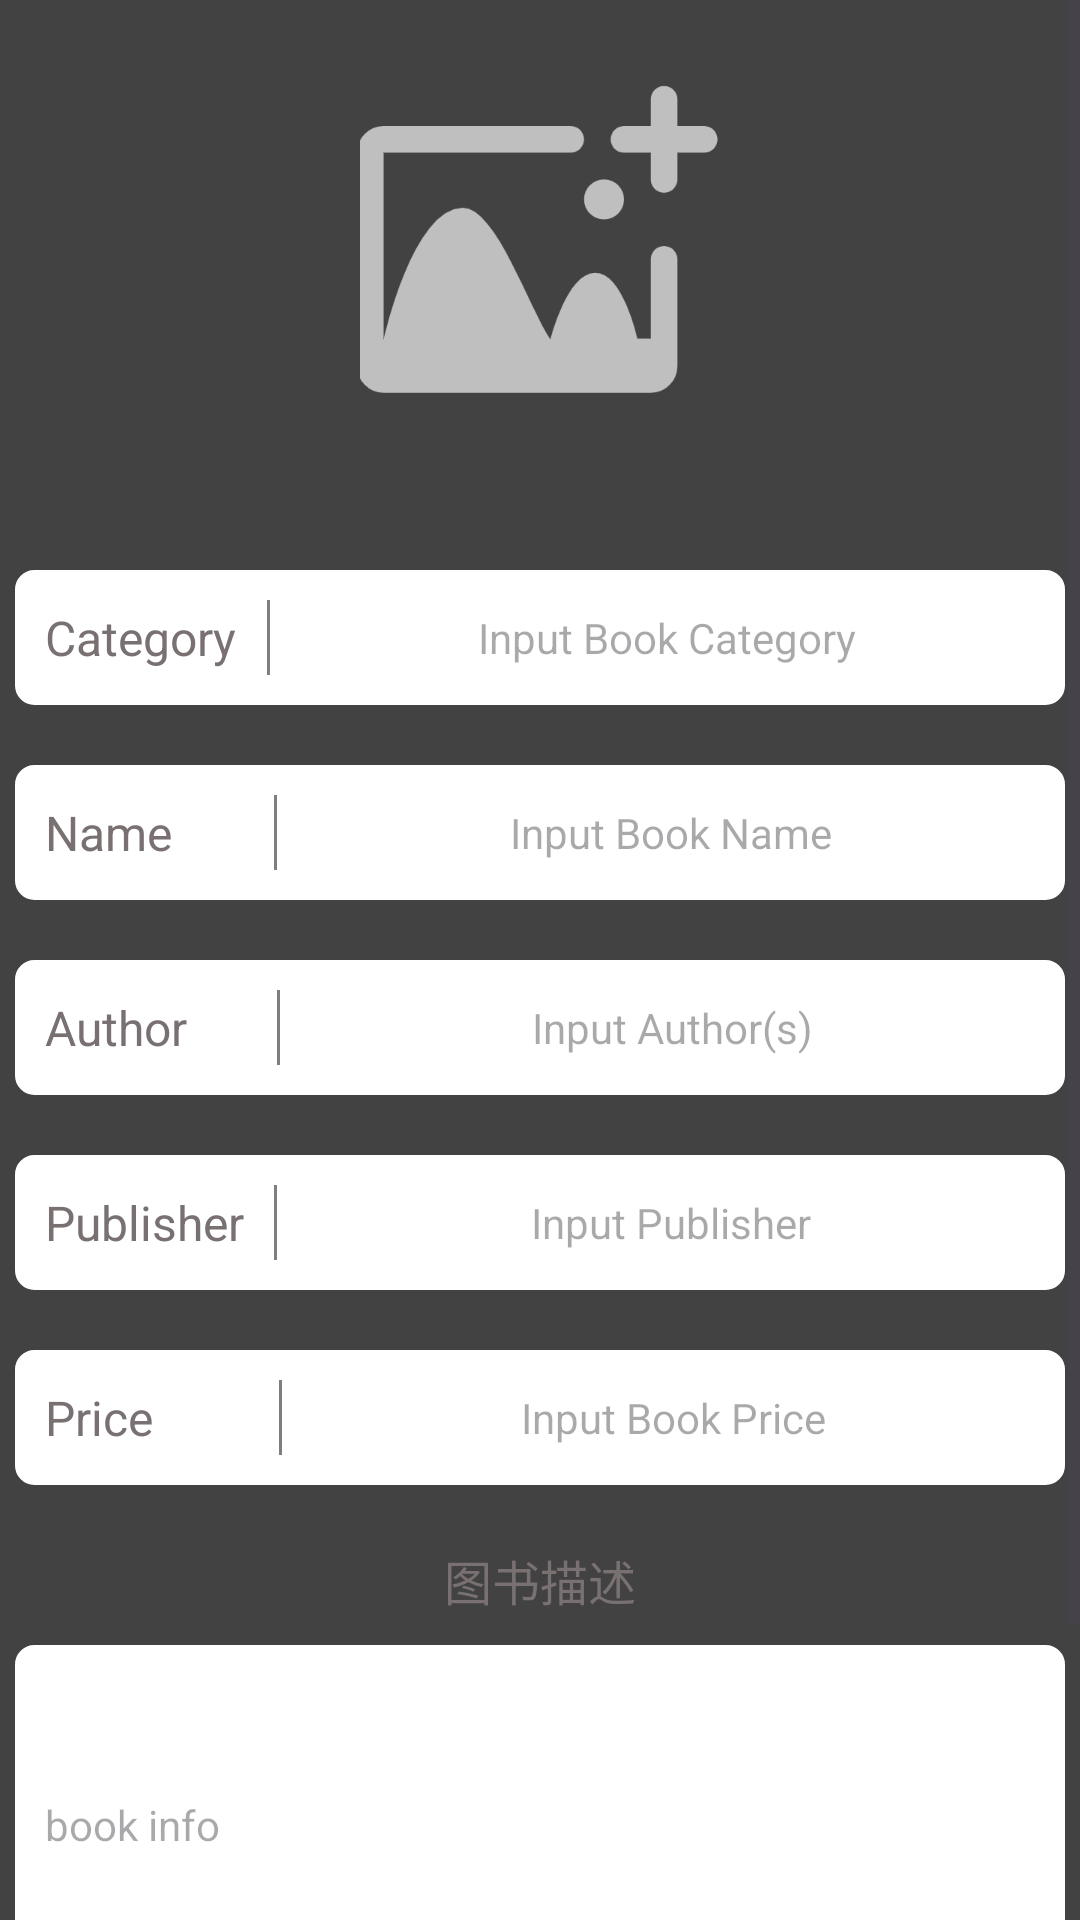

Icon click points for this 1080x1920 phone screenshot, format point (x, y):
my image: point (539, 239)
